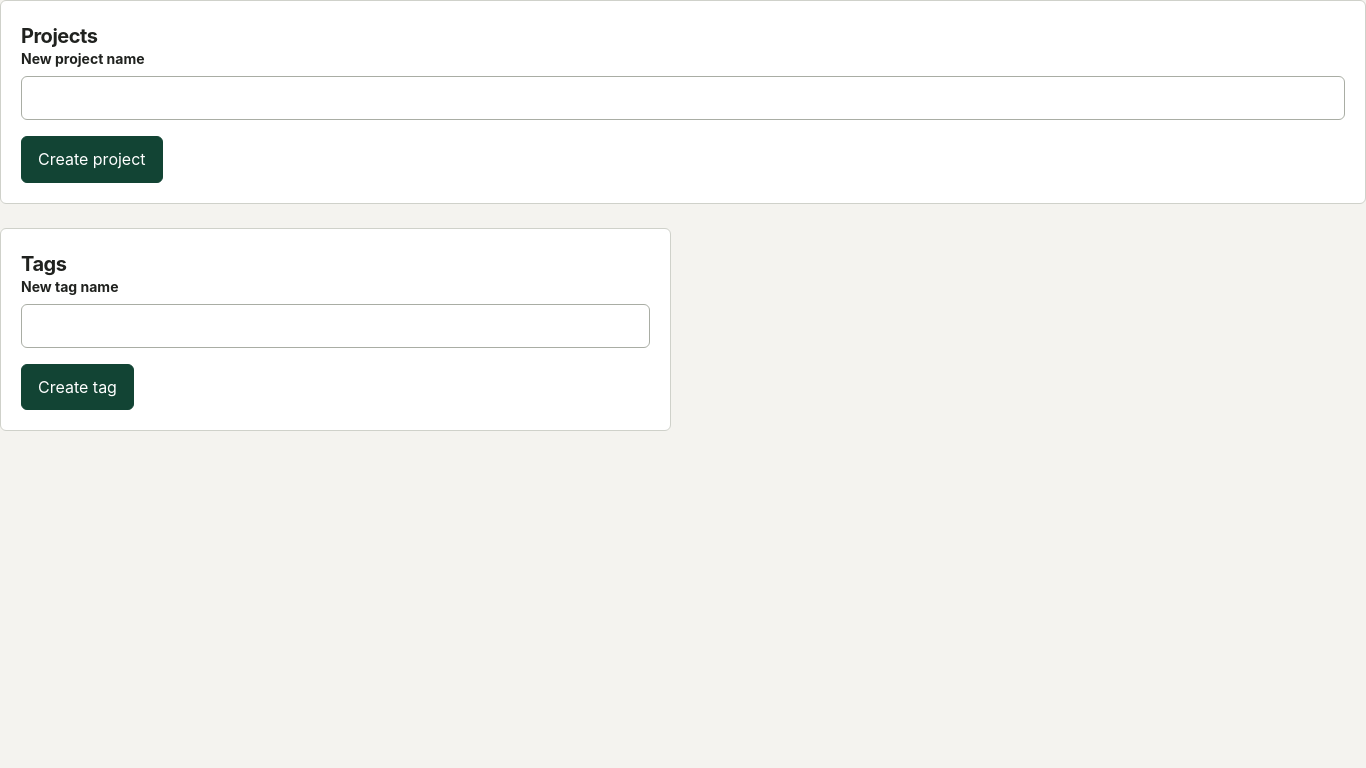
Test: OrganizationSettings › creates projects without exposing configuration secrets
Type "Research" into the field labelled "New project name" at (683, 98), box [21,76,1345,120]
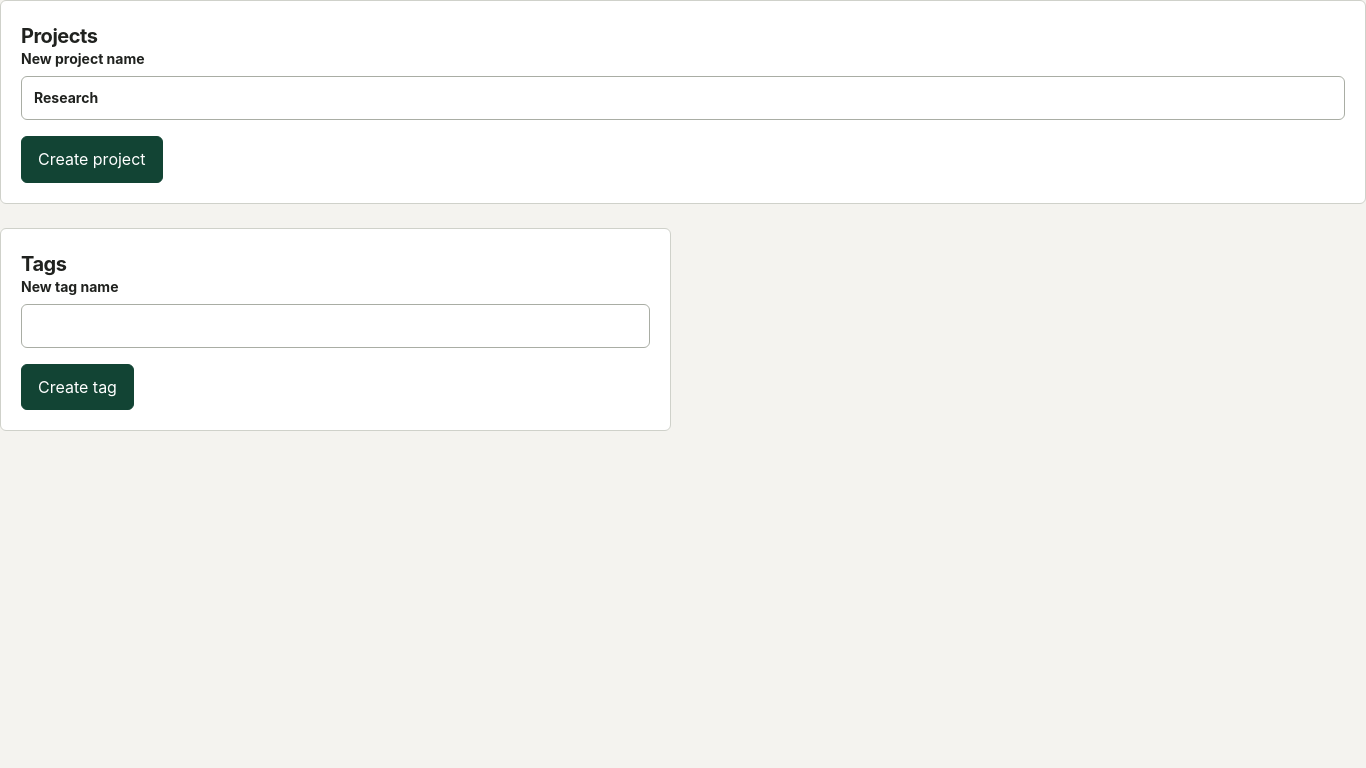
Click the button "Create project" at (92, 159), box [21,136,162,183]
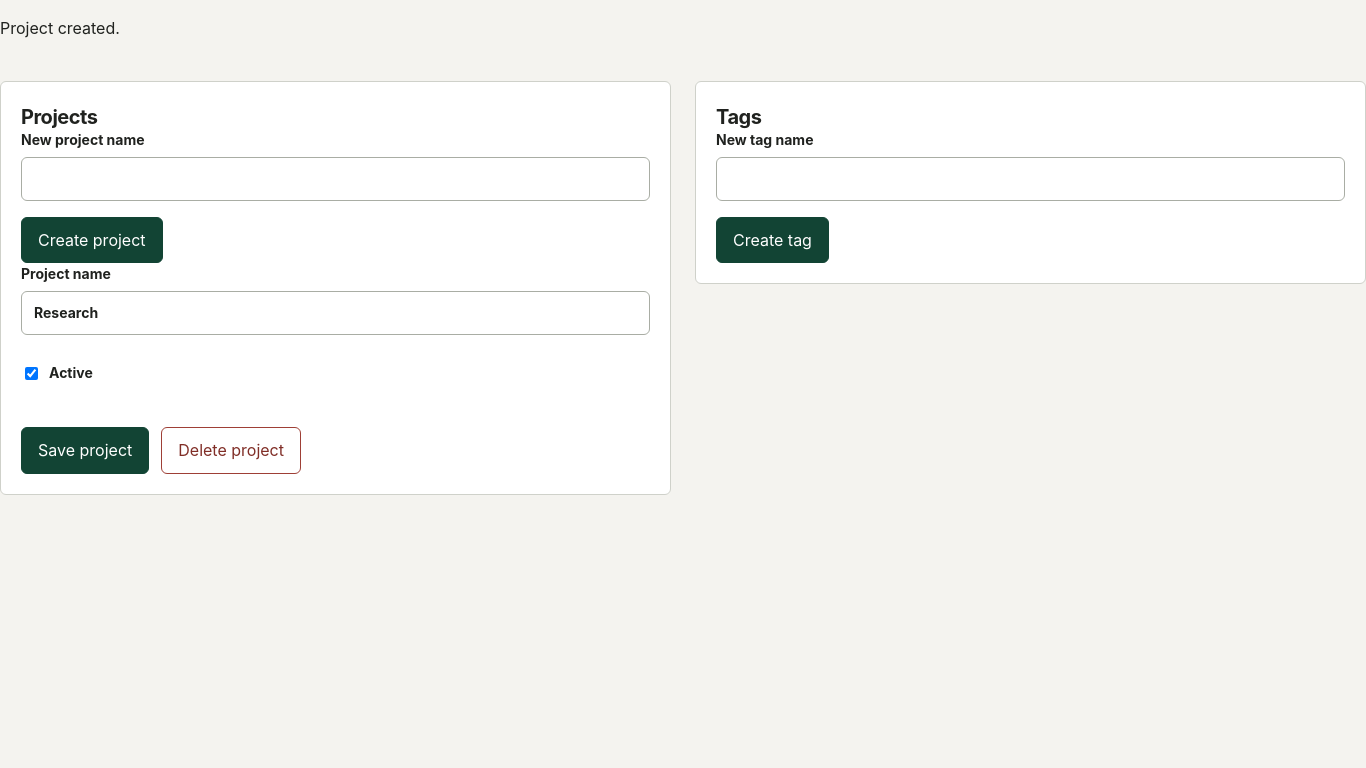
Now the text "Project created." is shown, box [0,18,120,38]
Now the field showing "Research" is shown, box [21,291,650,335]
Click the button "Delete project" at (231, 451), box [161,427,301,474]
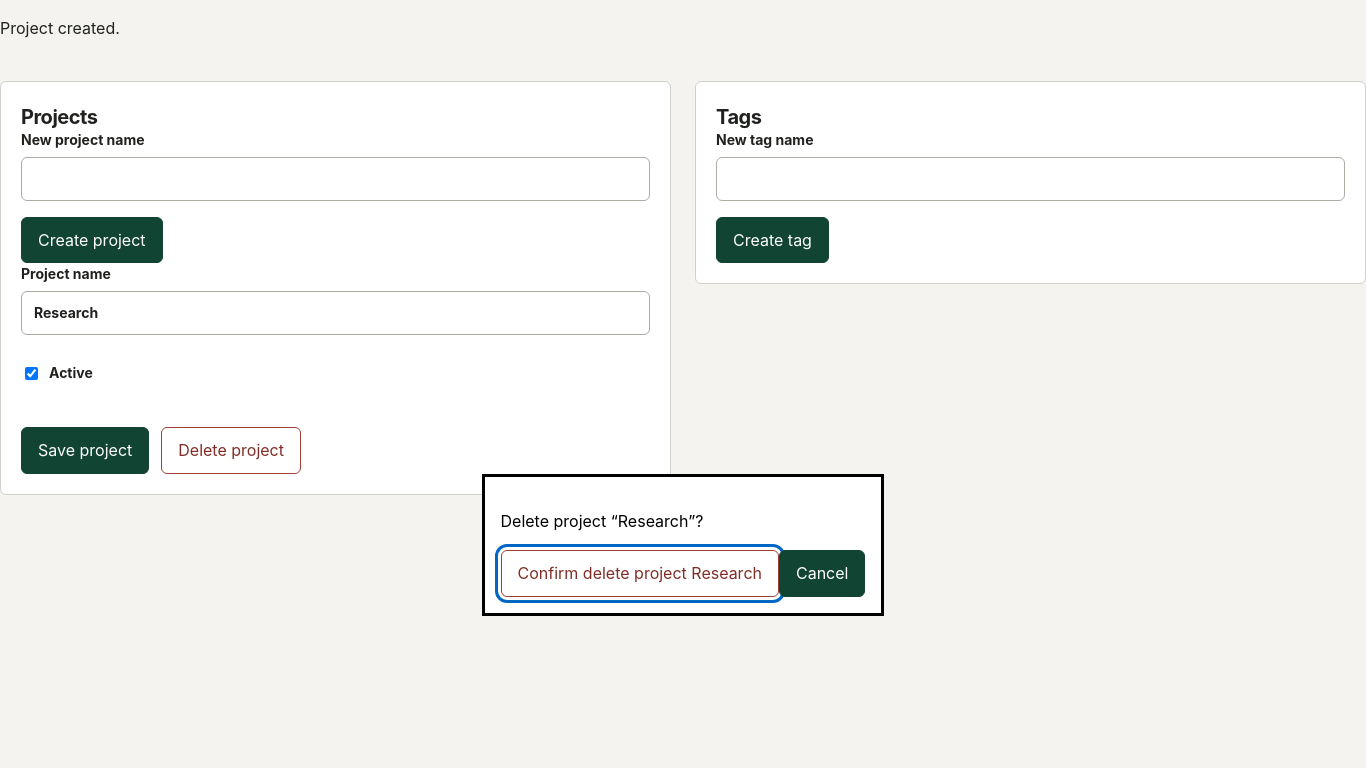
Click the button "Confirm delete project Research" at (640, 573), box [500,550,779,597]
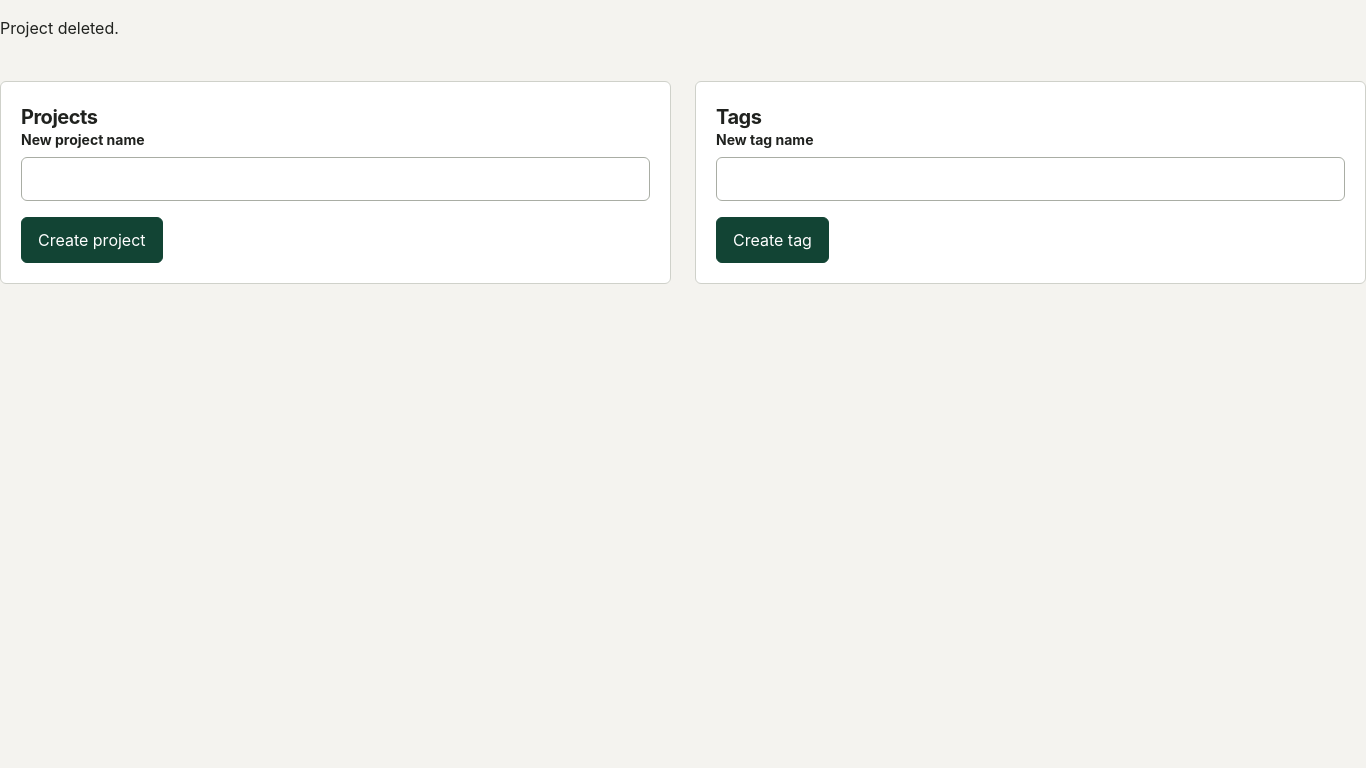
Now the text "Project deleted." is shown, box [0,18,119,38]
